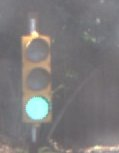Green: (17, 27, 58, 130)
